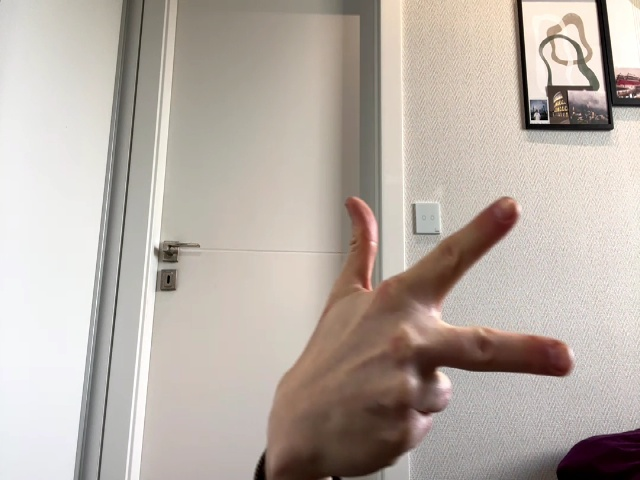K: (275, 195, 577, 456)
